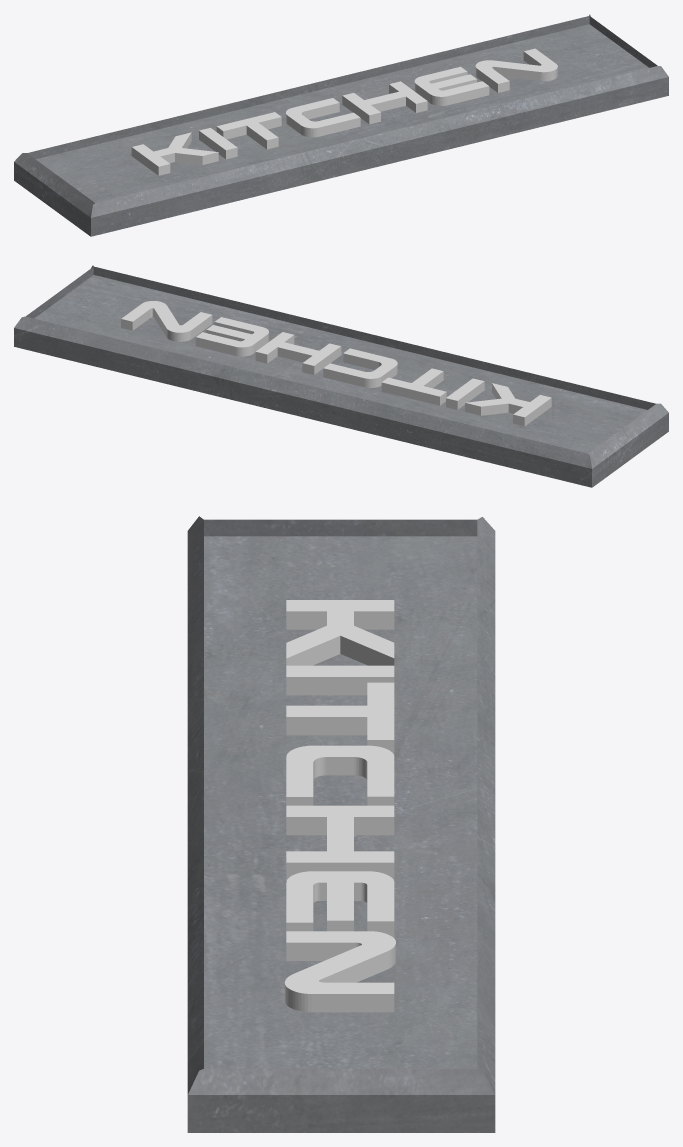
Rendered from Kitchen_Sign.fbx.
The picture shows the model from 3 angles, top to bottom: view 1: azimuth 30°, elevation 25°; view 2: azimuth 150°, elevation 25°; view 3: azimuth 270°, elevation 25°; orthographic projection. The views are drawn at different scales.
Parts seen in each view (by area): view 1: Box001, TextPlus002; view 2: Box001, TextPlus002; view 3: Box001, TextPlus002.
Boxes of the visible parts, bbox=[...] form: Box001: bbox=[14, 14, 668, 236]; TextPlus002: bbox=[131, 48, 557, 175]; Box001: bbox=[14, 265, 668, 487]; TextPlus002: bbox=[121, 301, 551, 426]; Box001: bbox=[187, 516, 495, 1132]; TextPlus002: bbox=[284, 600, 395, 1012].
Bounding box in the file's own units: 157 × 7.65 × 36.18.
Materials: 1 (1 with a texture image).
